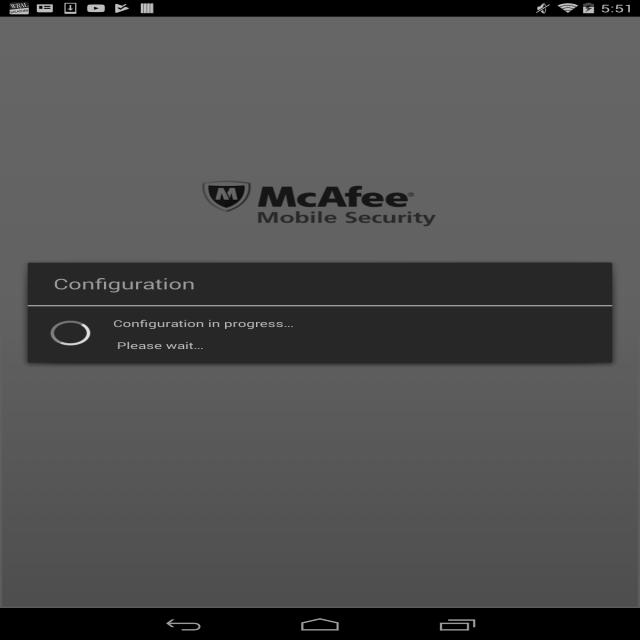ImageView: (199, 179, 252, 211)
Spinner: (44, 318, 94, 350)
TextView: (257, 182, 442, 226), (109, 316, 296, 332), (52, 278, 198, 293), (114, 339, 207, 352)
